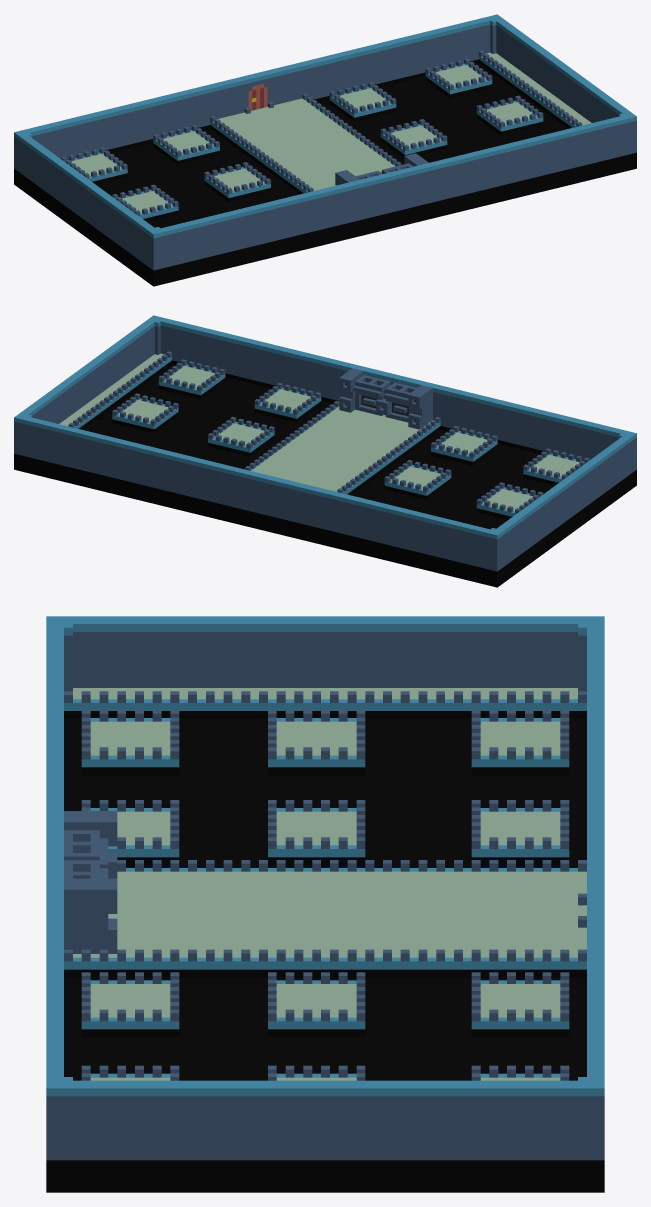
File: hab1.2.obj
The picture shows the model from 3 angles, top to bottom: view 1: azimuth 30°, elevation 25°; view 2: azimuth 150°, elevation 25°; view 3: azimuth 270°, elevation 25°; orthographic projection. The views are drawn at different scales.
Size of the model in its own units: 126 by 13 by 63.
Materials: 1 (1 with a texture image).
